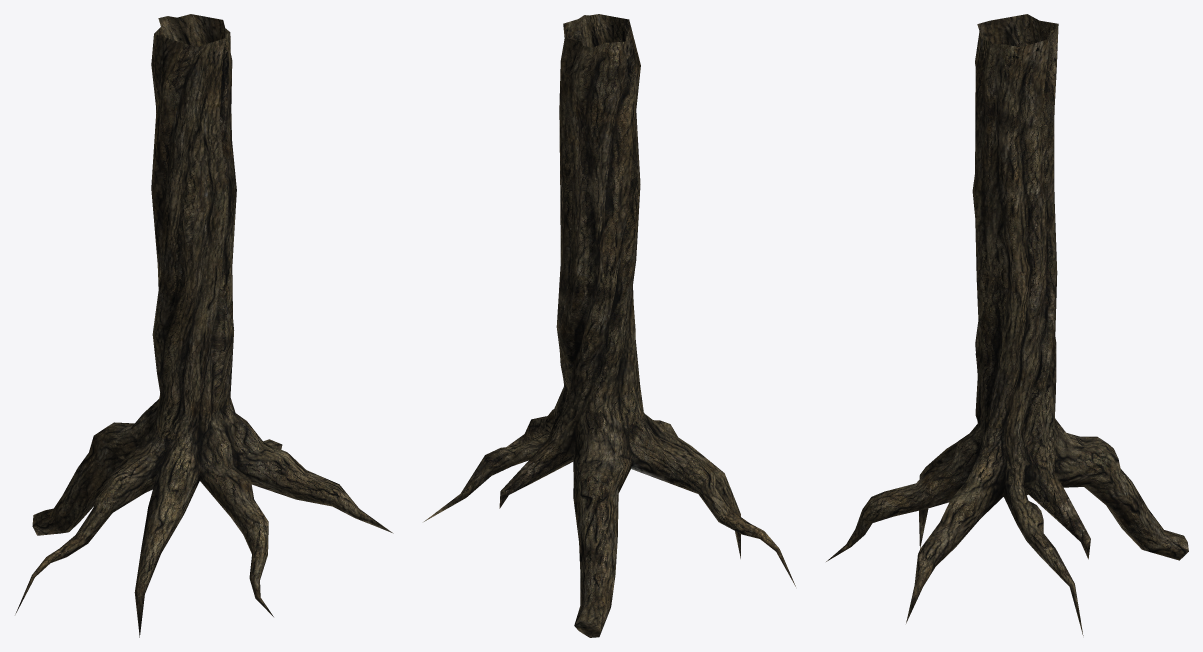
Rendered from tree_large.dae.
The picture shows the model from 3 angles, left to right: view 1: azimuth 30°, elevation 25°; view 2: azimuth 150°, elevation 25°; view 3: azimuth 270°, elevation 25°; orthographic projection. The views are drawn at different scales.
Visible parts, largest first — view 1: pCylinder2; view 2: pCylinder2; view 3: pCylinder2.
Boxes of the visible parts, <box> form: pCylinder2: <box>15,14,393,637</box>; pCylinder2: <box>424,14,795,637</box>; pCylinder2: <box>826,14,1188,635</box>.
Bounding box in the file's own units: 5.77 × 8.95 × 5.18.
